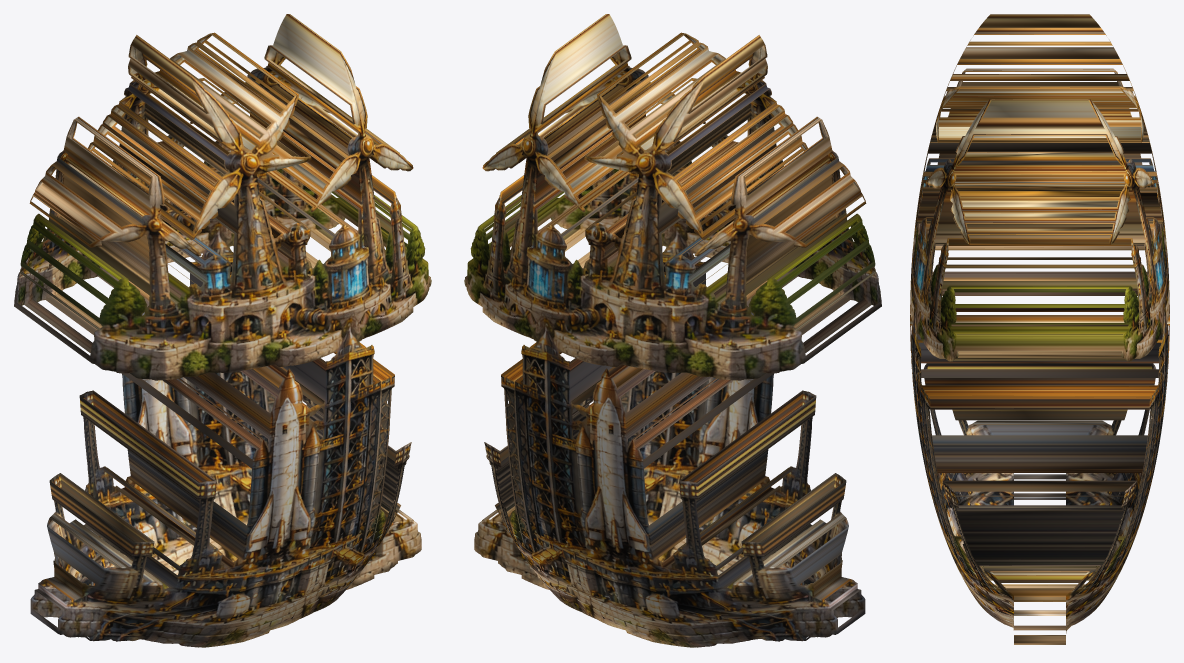
The picture shows the model from 3 angles, left to right: view 1: azimuth 30°, elevation 25°; view 2: azimuth 150°, elevation 25°; view 3: azimuth 270°, elevation 25°; orthographic projection. The views are drawn at different scales.
Visible parts, largest first — view 1: civilizations:6; view 2: civilizations:6; view 3: civilizations:6.
Boxes of the visible parts, x1=… form: civilizations:6: x1=14, y1=14, x2=431, y2=647; civilizations:6: x1=464, y1=14, x2=881, y2=647; civilizations:6: x1=910, y1=14, x2=1169, y2=644.
Size of the model in its own units: 0.6425 by 0.9722 by 0.42.
Materials: 1 (1 with a texture image).
